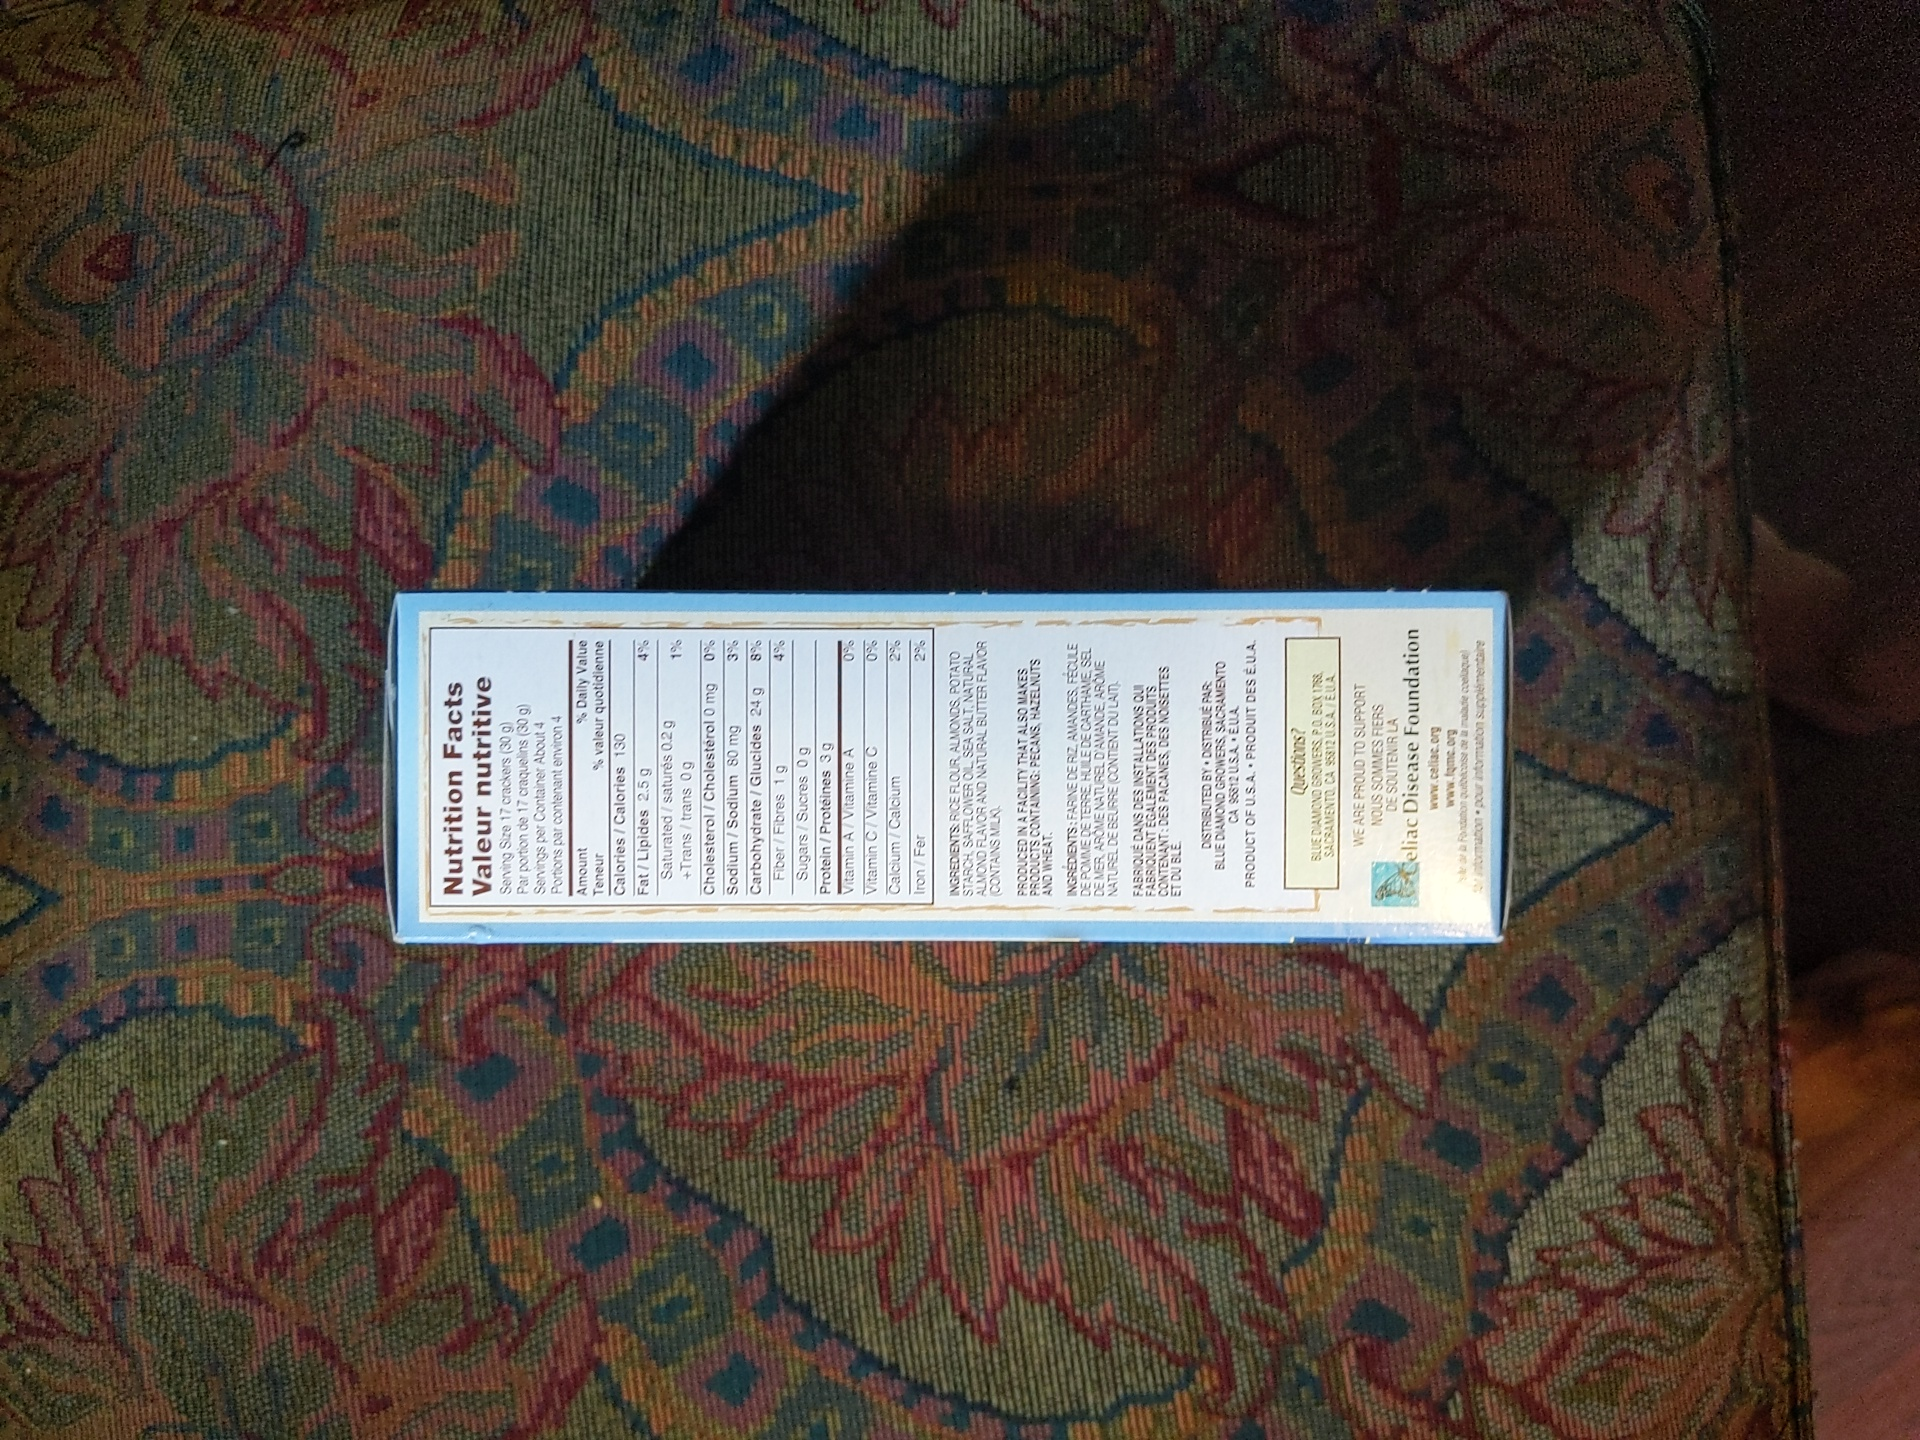blue_diamond_nut_thins_almond_seasalt: (387, 585, 1516, 945)
